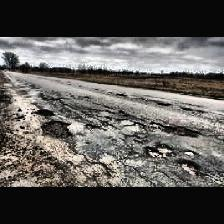pothole: (152, 120, 200, 138), (39, 120, 71, 138), (147, 144, 175, 158), (178, 160, 200, 176), (33, 108, 55, 116), (182, 150, 196, 156)
